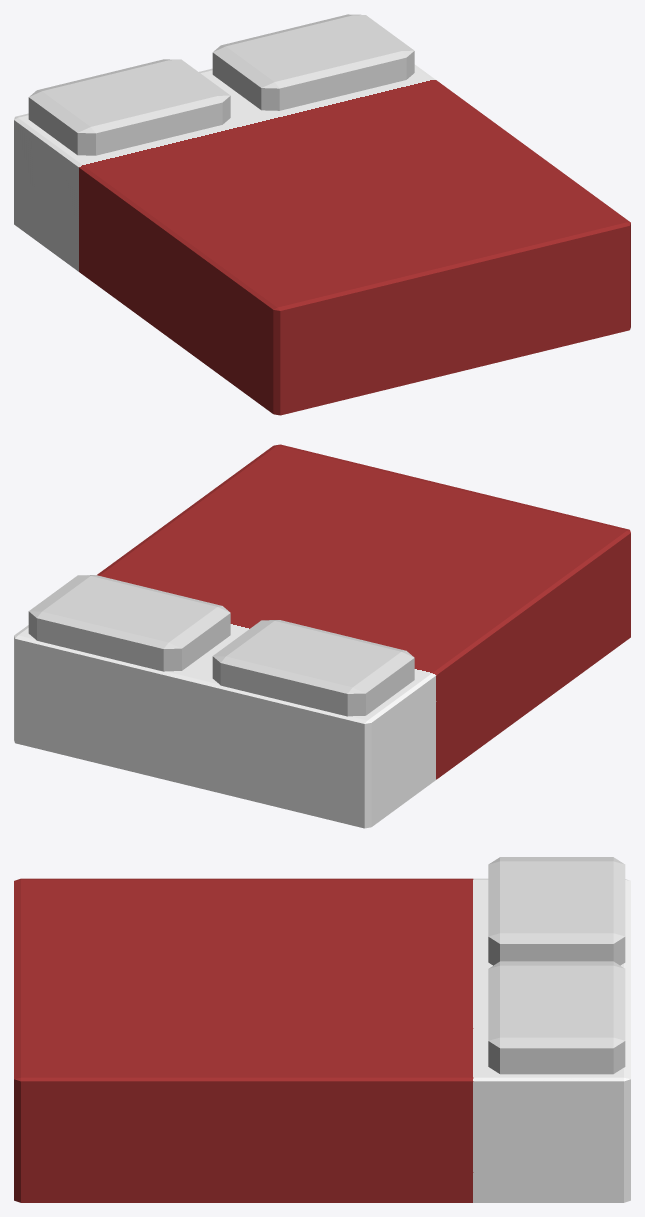
The model's file is Bed.fbx.
3 views of the same model, one above another, from view 1: azimuth 30°, elevation 25°; view 2: azimuth 150°, elevation 25°; view 3: azimuth 270°, elevation 25° (orthographic). The views are drawn at different scales.
Parts seen in each view (by area): view 1: Cube, Cube.002, Cube.001; view 2: Cube, Cube.001, Cube.002; view 3: Cube, Cube.001, Cube.002.
Part boxes in pixels (x1=…): Cube: x1=14, y1=64, x2=630, y2=415; Cube.002: x1=28, y1=59, x2=230, y2=155; Cube.001: x1=212, y1=14, x2=414, y2=110; Cube: x1=14, y1=444, x2=630, y2=828; Cube.001: x1=28, y1=575, x2=230, y2=671; Cube.002: x1=212, y1=620, x2=414, y2=716; Cube: x1=14, y1=878, x2=630, y2=1202; Cube.001: x1=488, y1=961, x2=625, y2=1074; Cube.002: x1=488, y1=857, x2=625, y2=965.
Size of the model in its own units: 700 by 247 by 900.
Materials: 1 (1 with a texture image).
